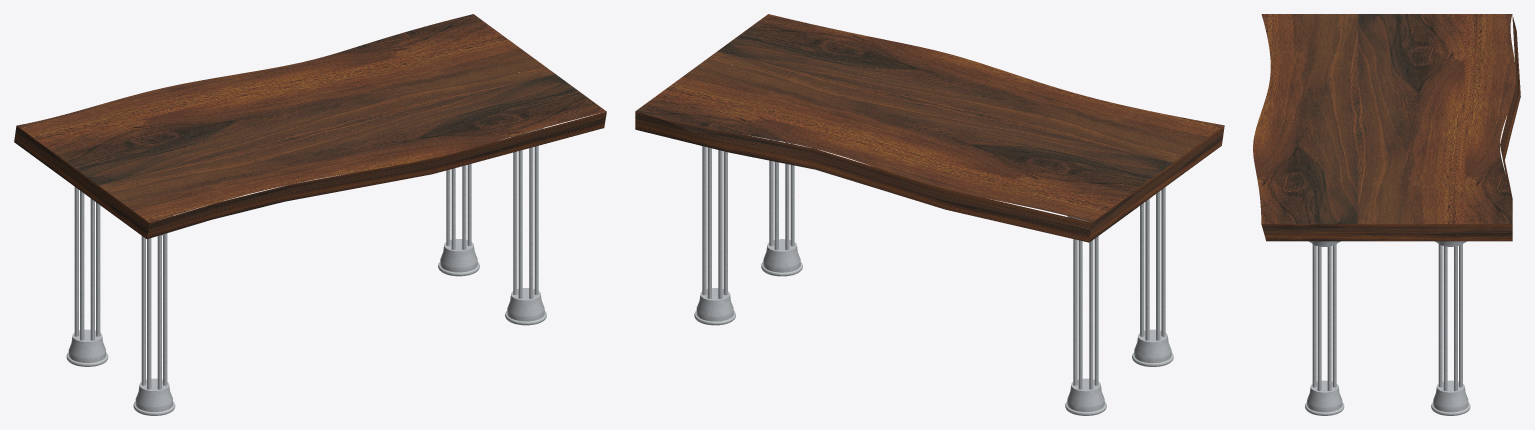
Rendered from argentevsdoricvs.gltf.
3 views of the same model, side by side, from view 1: azimuth 30°, elevation 25°; view 2: azimuth 150°, elevation 25°; view 3: azimuth 270°, elevation 25° (orthographic). The views are drawn at different scales.
Visible parts, largest first — view 1: mesh_4; view 2: mesh_4; view 3: mesh_4.
Part boxes in pixels (x1,y1,x2,y2): mesh_4: (14, 14, 606, 415); mesh_4: (635, 14, 1224, 415); mesh_4: (1253, 14, 1520, 415).
Size of the model in its own units: 99 by 45.2 by 53.36.
2 materials, 2 textured.
